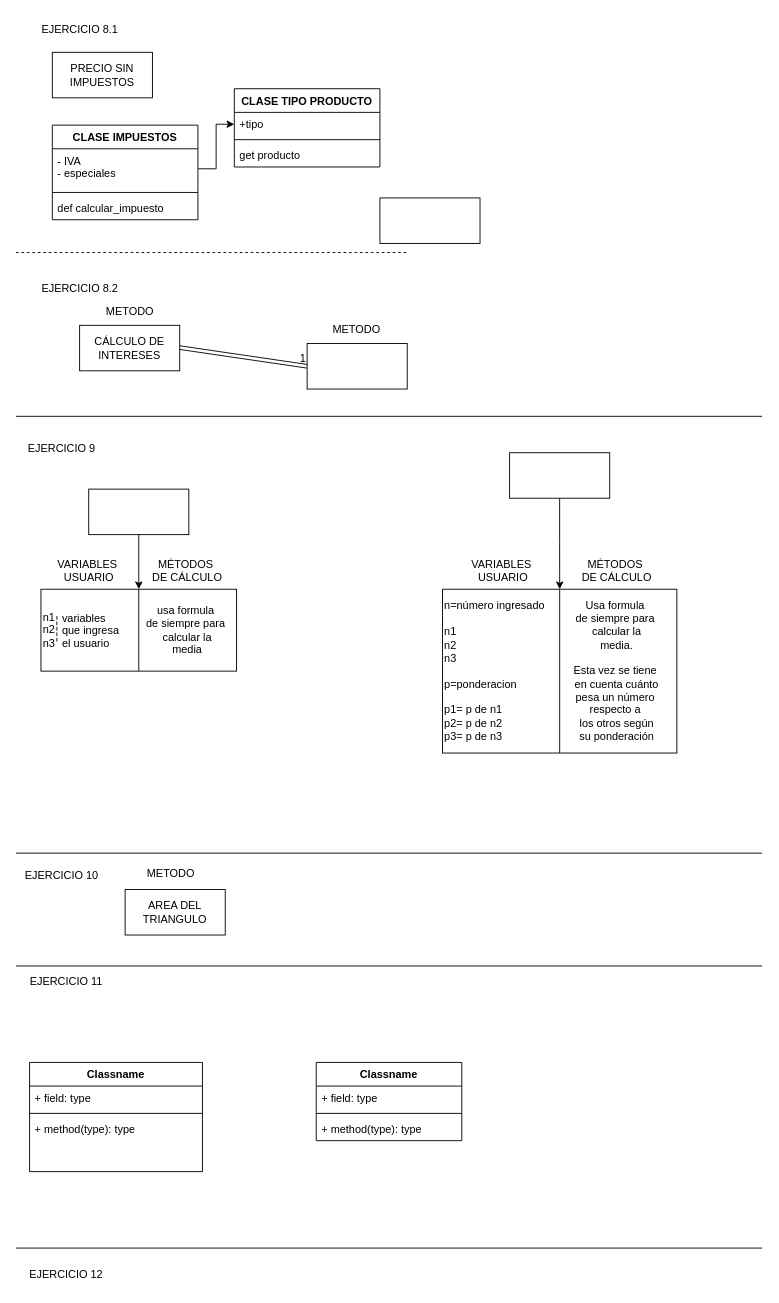
Image size: 779x1303. Some labels were removed from this diagram. The shapes that lost their labels are listed below. From the top down, each one's centre as x and y in pixels, then its label:
At (x=429, y=220): "PRECIO FINAL".
At (x=356, y=366): "CÁLCULO CAPITAL FINAL".
At (x=559, y=475): "MEDIA PONDERADA".
At (x=138, y=511): "MEDIA ARITMETICA".
